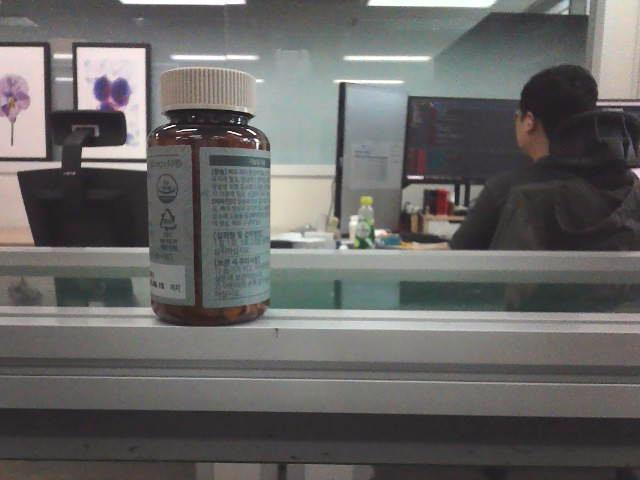labeled: (141, 61, 276, 329)
